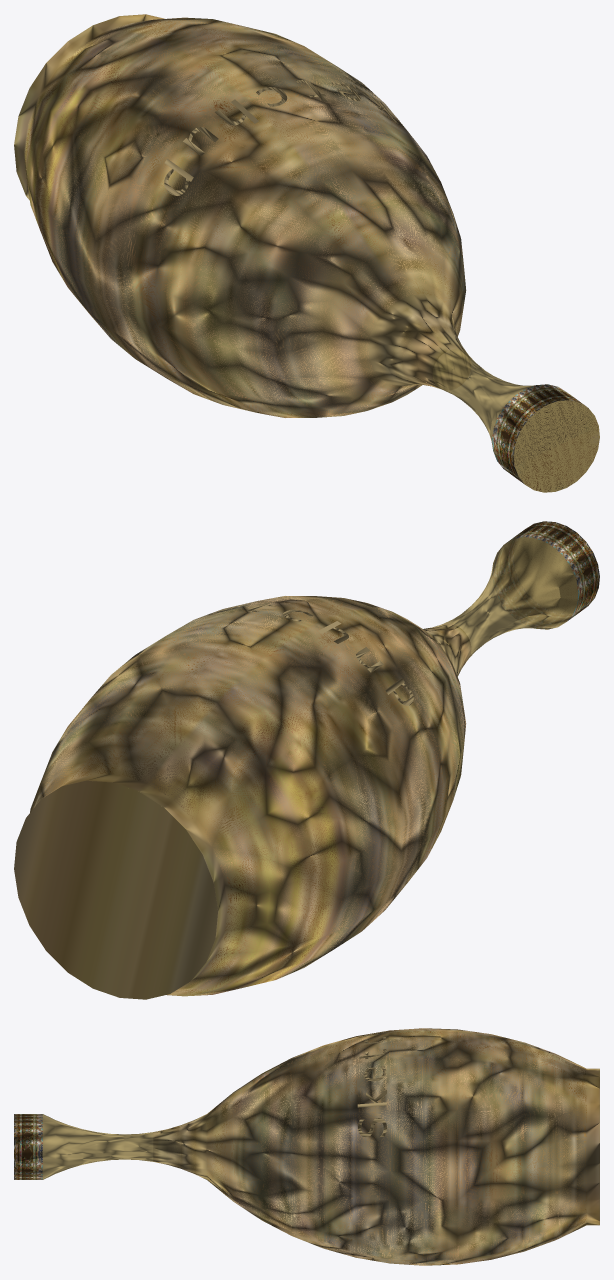
Rendered from model_align.obj.
3 renders of one model, top to bottom at view 1: azimuth 30°, elevation 25°; view 2: azimuth 150°, elevation 25°; view 3: azimuth 270°, elevation 25°, orthographic. The views are drawn at different scales.
Bounding box in the file's own units: 0.0552 × 0.0552 × 0.1361.
